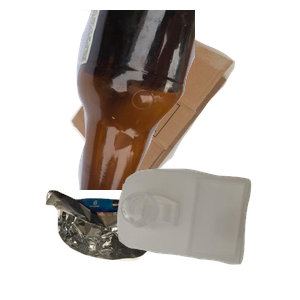cardboard: (67, 16, 295, 196)
glass: (60, 10, 300, 190)
plastic: (115, 166, 300, 300)
trash: (43, 187, 234, 300)
